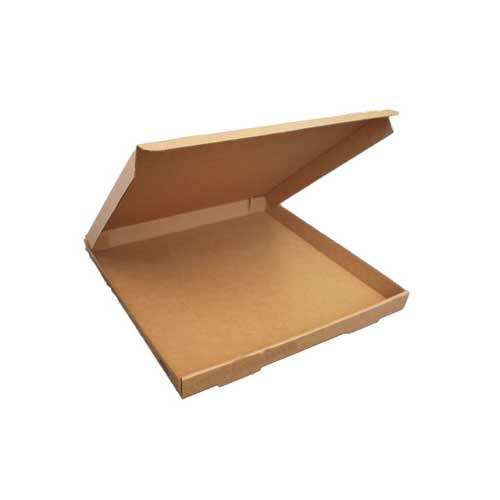Rec_Paper: (84, 72, 430, 412)
